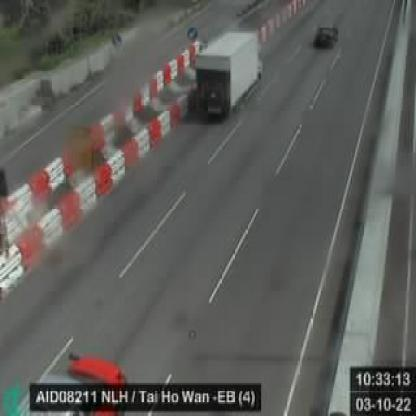Car: (312, 23, 337, 45)
Truck: (195, 28, 261, 118)
